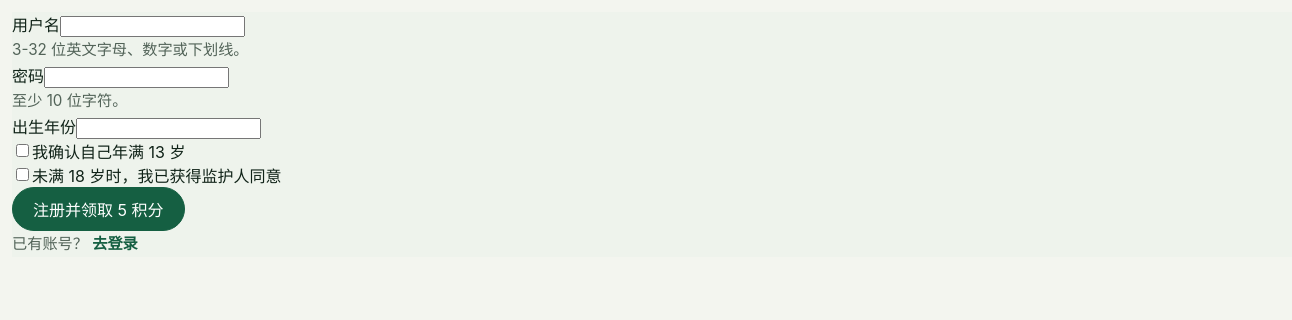
it: auth forms › shows registration errors without redirecting
The width and height of the screenshot is (1292, 320).
In the field labelled "用户名": point(152, 26) [60,16,245,37], type "player1"
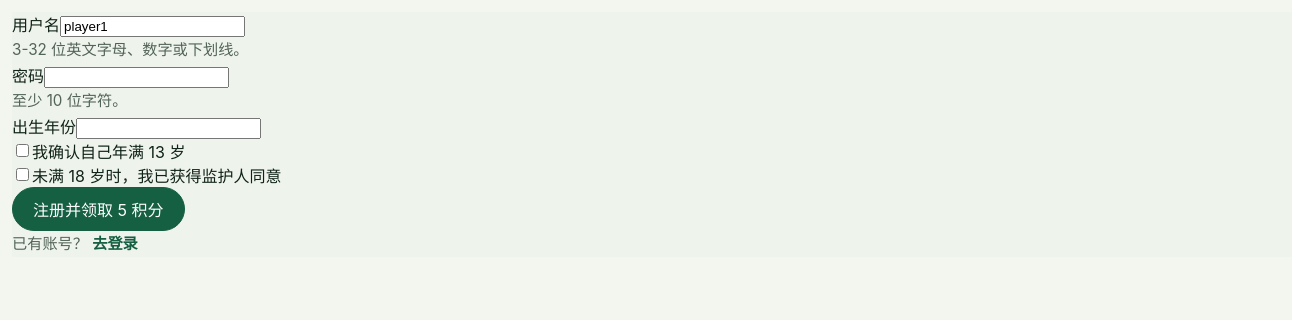
In the password field labelled "密码": point(136, 77) [44,67,229,88], type "Correct-Horse-123"
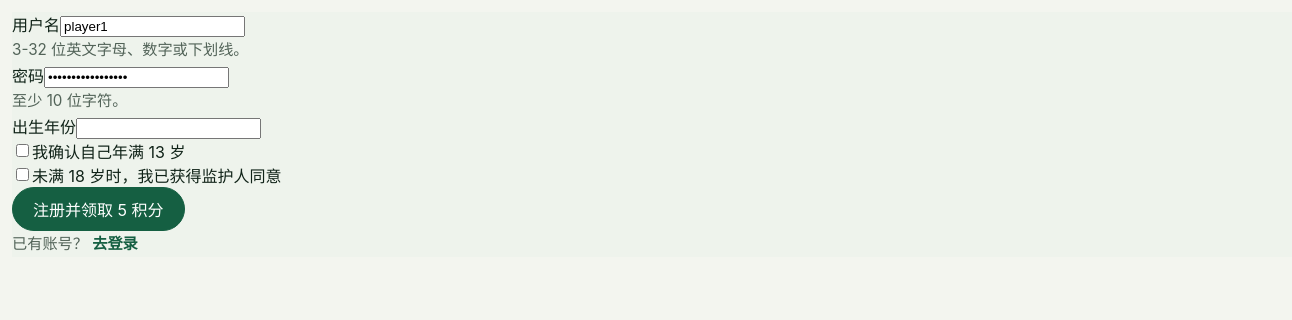
In the field labelled "出生年份": point(168, 128) [76,118,261,139], type "2010"
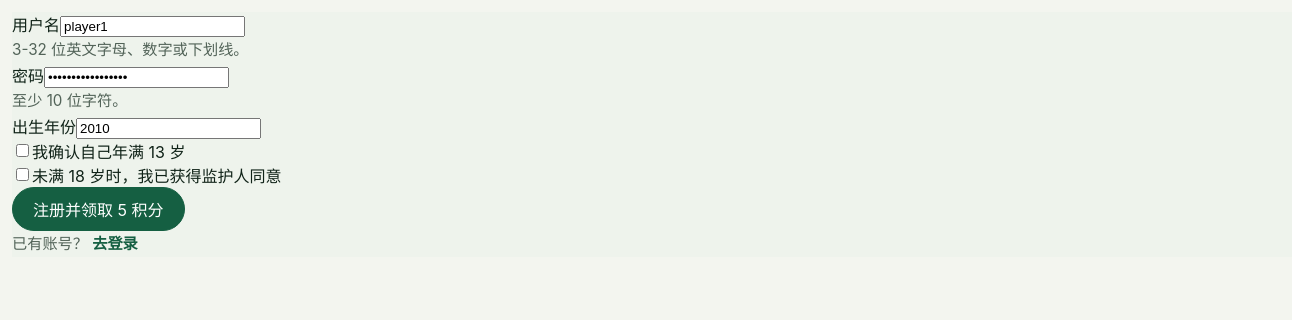
Click the checkbox labelled "我确认自己年满 13 岁": point(22, 151) [16,144,29,157]
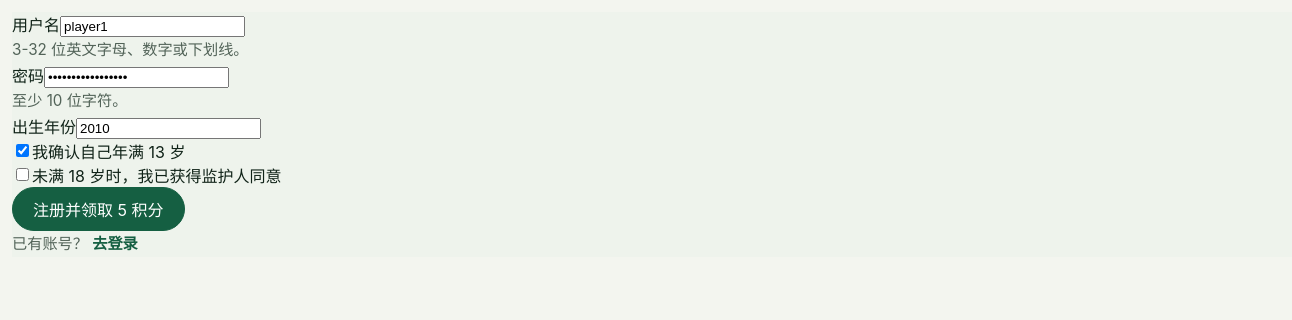
Click the checkbox labelled "未满 18 岁时，我已获得监护人同意": point(22, 175) [16,168,29,181]
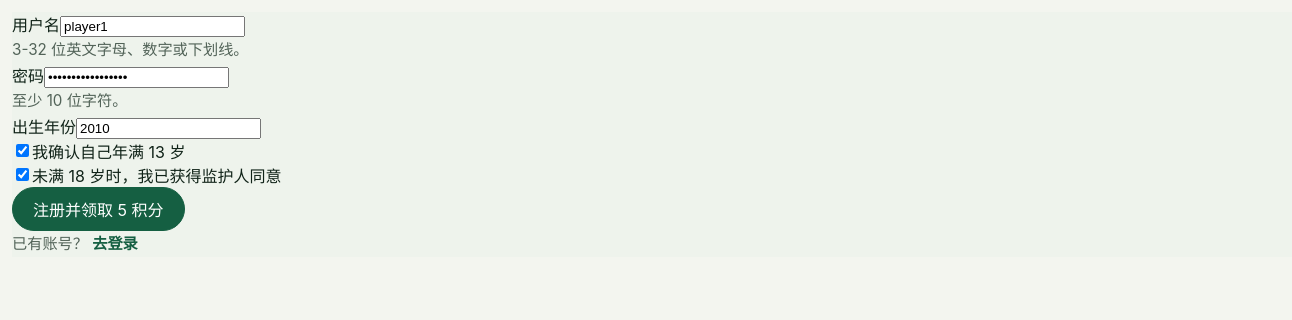
Click the button "注册并领取 5 积分": point(98, 209) [12,187,184,231]
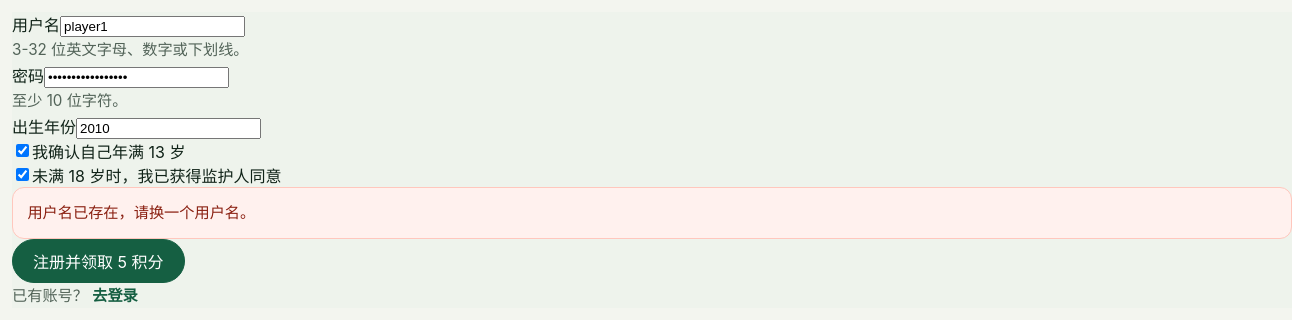
Check: the message reads "用户名已存在，请换一个用户名。", box [27,203,255,222]
